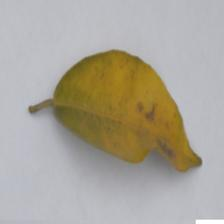greening: (76, 40, 134, 164)
